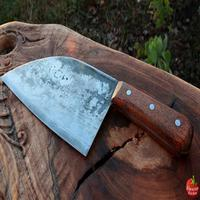knife: (2, 42, 186, 157)
